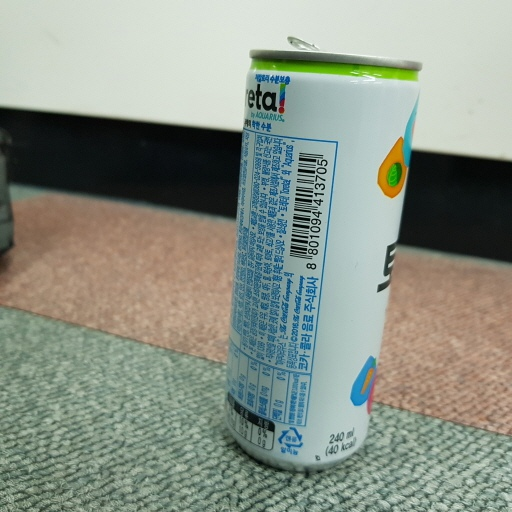Metal_0: (225, 36, 423, 473)
